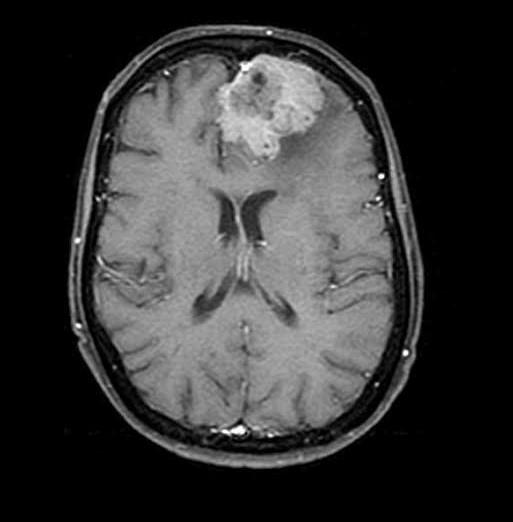Tumour-Meningioma: (205, 48, 335, 188)
